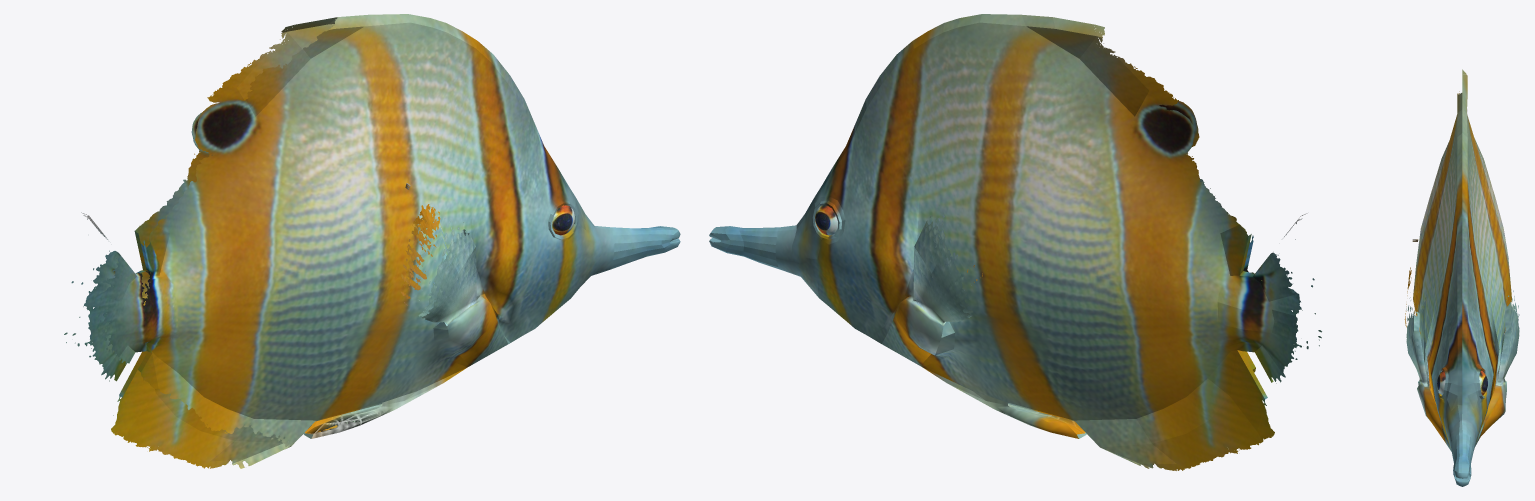
Rendered from Butterfly.obj.
The picture shows the model from 3 angles, left to right: view 1: azimuth 30°, elevation 25°; view 2: azimuth 150°, elevation 25°; view 3: azimuth 270°, elevation 25°; orthographic projection. The views are drawn at different scales.
Visible parts, largest first — view 1: Butterfly_Fish; view 2: Butterfly_Fish; view 3: Butterfly_Fish, Eye_Left_Buterfly, Eye_Right_Buterfly.
Boxes of the visible parts, box(x1,y1,x2,y2) form: Butterfly_Fish: box(64, 14, 680, 468); Butterfly_Fish: box(709, 14, 1321, 470); Butterfly_Fish: box(1404, 69, 1519, 486); Eye_Left_Buterfly: box(1479, 371, 1487, 395); Eye_Right_Buterfly: box(1437, 371, 1445, 395).
Size of the model in its own units: 302 by 189 by 55.54.
Materials: 1 (1 with a texture image).
